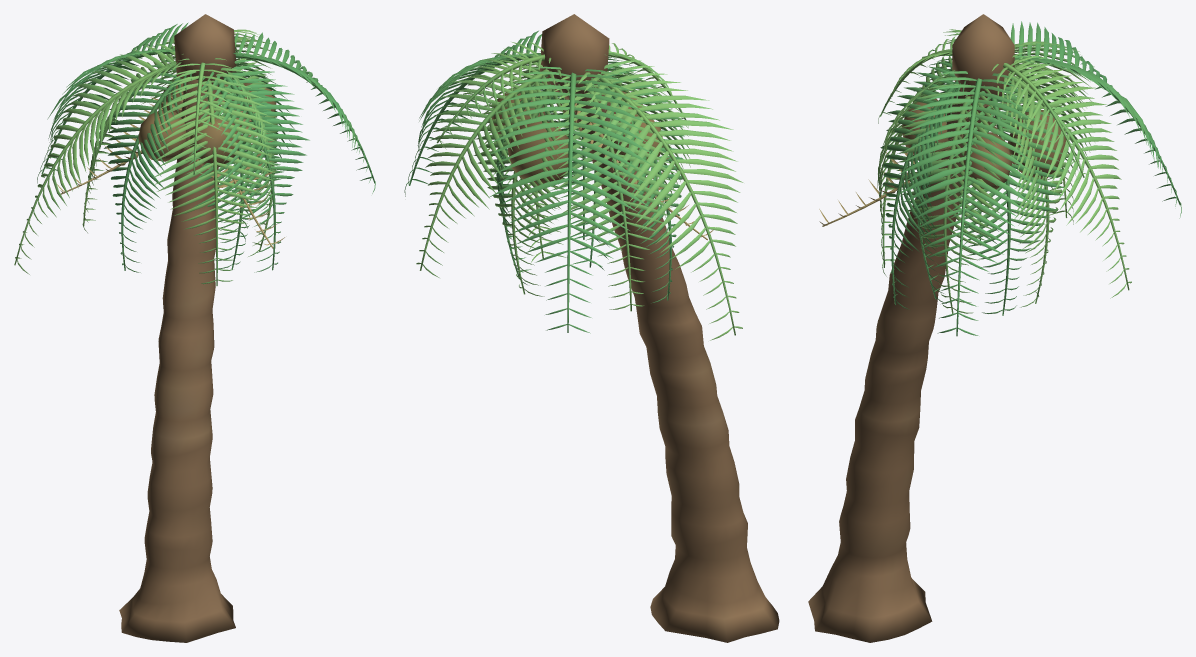
Rendered from palm_c.d9a2460a.glb.
The picture shows the model from 3 angles, left to right: view 1: azimuth 30°, elevation 25°; view 2: azimuth 150°, elevation 25°; view 3: azimuth 270°, elevation 25°; orthographic projection. The views are drawn at different scales.
Parts seen in each view (by area): view 1: palm_c; view 2: palm_c; view 3: palm_c.
Part boxes in pixels (bbox=[...]): palm_c: bbox=[14, 14, 375, 642]; palm_c: bbox=[404, 14, 779, 642]; palm_c: bbox=[808, 14, 1181, 642].
Size of the model in its own units: 3.41 by 5.5 by 2.9.
